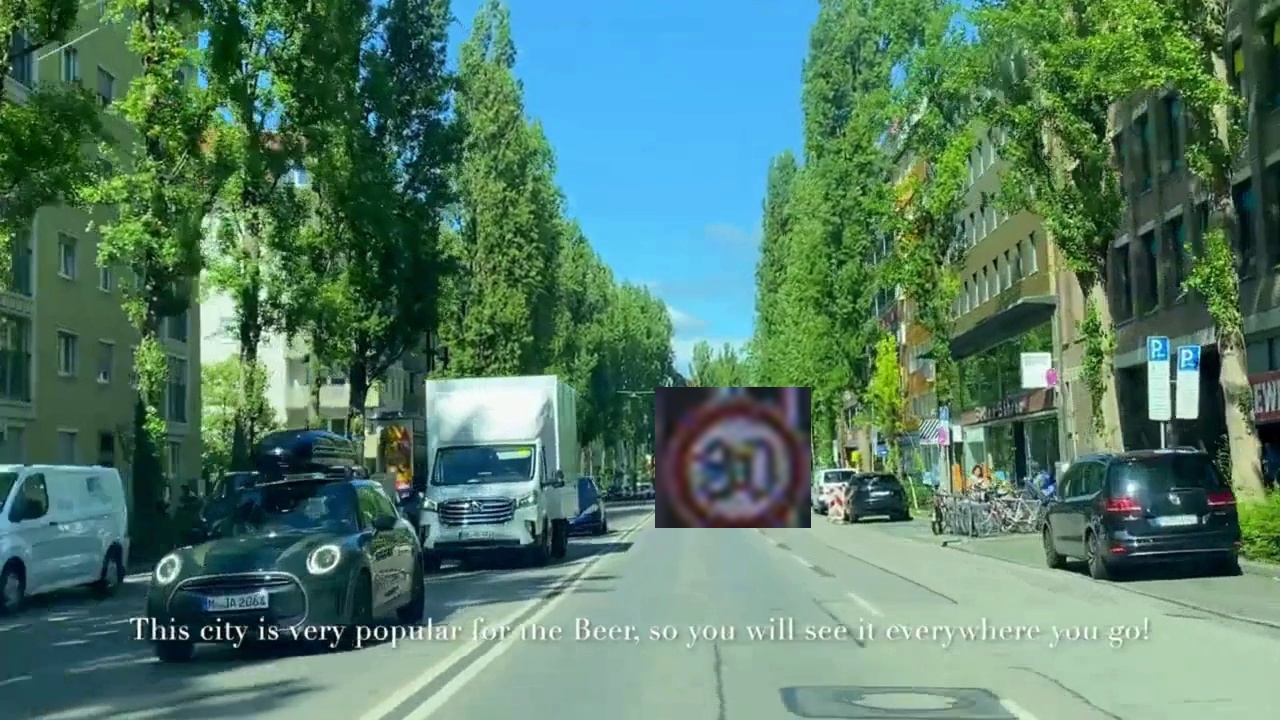Speed 80: (655, 387, 811, 528)
